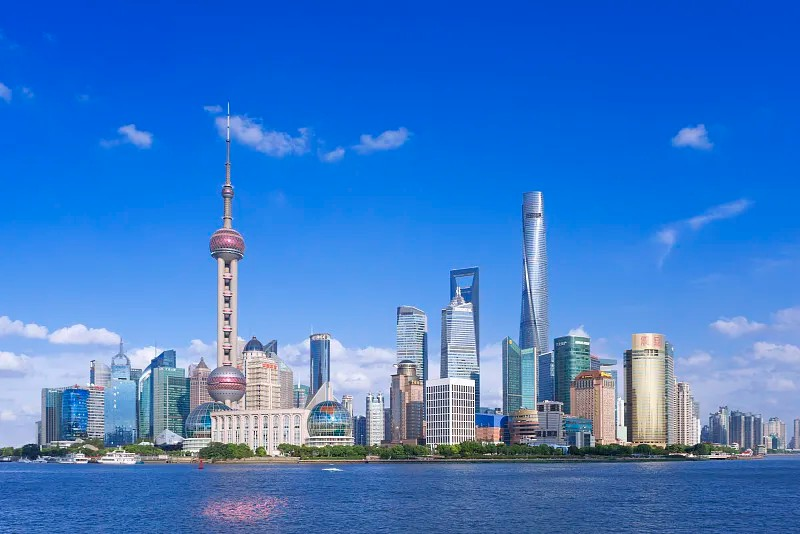Oriental: (207, 101, 246, 407)
